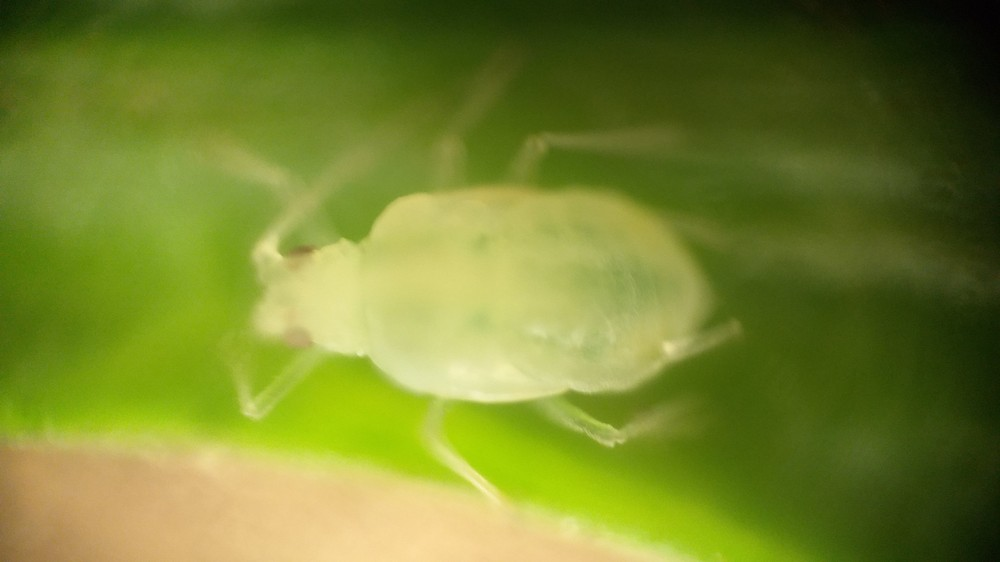Pulgon: (190, 87, 803, 525)
